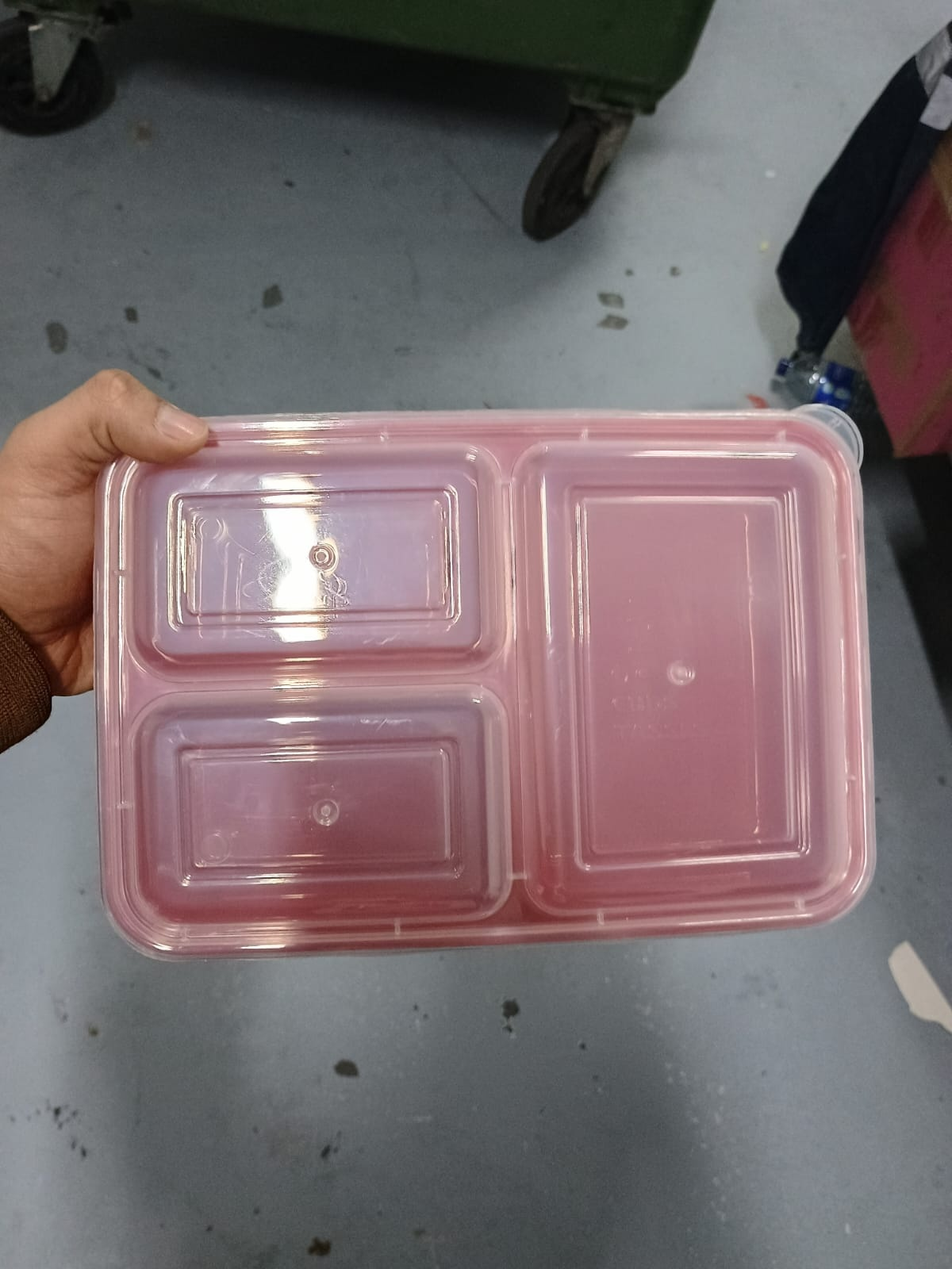Plastico: (96, 404, 880, 965)
